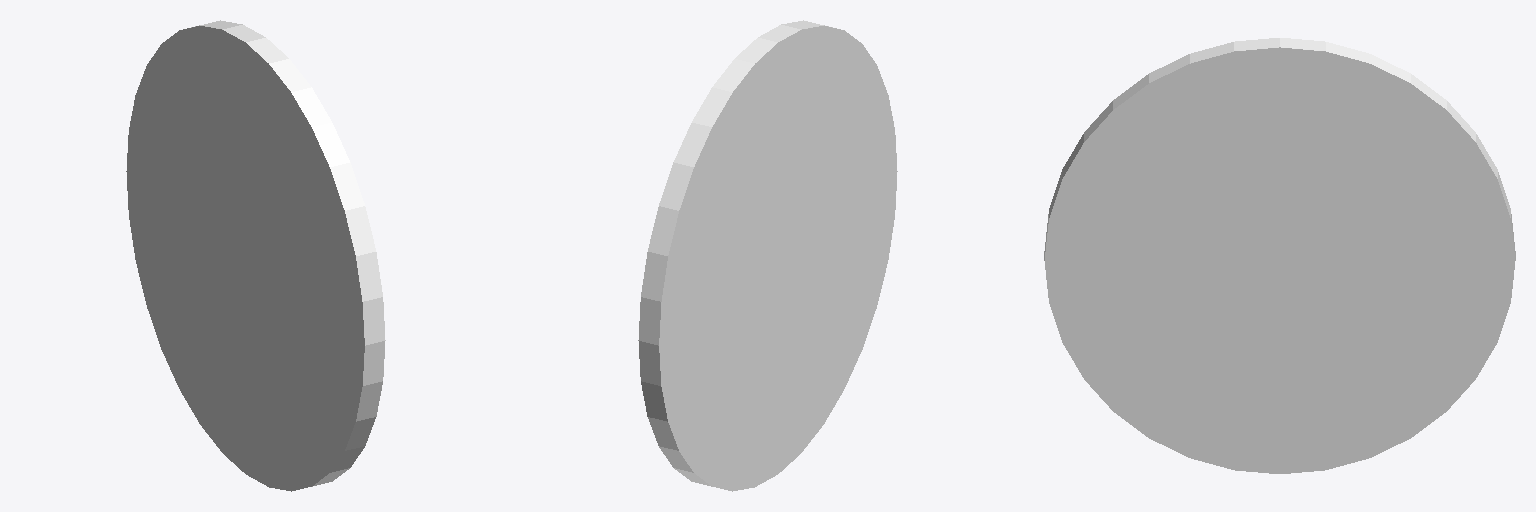
robot.urdf — g1_plate_scene:
<?xml version="1.0"?>
<robot name="g1_plate_scene">
  <link name="_virtual_bell_root_link"/>

  <joint name="_virtual_bell_x" type="prismatic">
    <origin xyz="0 0 0" rpy="0 0 0"/>
    <parent link="_virtual_bell_root_link"/>
    <child link="_virtual_bell_x_link"/>
    <axis xyz="1 0 0"/>
    <limit lower="-3" upper="3" effort="100" velocity="1"/>
  </joint>
  <link name="_virtual_bell_x_link">
    <inertial>
      <origin xyz="0 0 0" rpy="0 0 0"/>
      <mass value="0.001"/>
      <inertia ixx="1e-7" ixy="0" ixz="0" iyy="1e-7" iyz="0" izz="1e-7"/>
    </inertial>
  </link>

  <joint name="_virtual_bell_y" type="prismatic">
    <origin xyz="0 0 0" rpy="0 0 0"/>
    <parent link="_virtual_bell_x_link"/>
    <child link="_virtual_bell_y_link"/>
    <axis xyz="0 1 0"/>
    <limit lower="-3" upper="3" effort="100" velocity="1"/>
  </joint>
  <link name="_virtual_bell_y_link">
    <inertial>
      <origin xyz="0 0 0" rpy="0 0 0"/>
      <mass value="0.001"/>
      <inertia ixx="1e-7" ixy="0" ixz="0" iyy="1e-7" iyz="0" izz="1e-7"/>
    </inertial>
  </link>

  <joint name="_virtual_bell_z" type="prismatic">
    <origin xyz="0 0 0" rpy="0 0 0"/>
    <parent link="_virtual_bell_y_link"/>
    <child link="_virtual_bell_z_link"/>
    <axis xyz="0 0 1"/>
    <limit lower="-3" upper="3" effort="100" velocity="1"/>
  </joint>
  <link name="_virtual_bell_z_link">
    <inertial>
      <origin xyz="0 0 0" rpy="0 0 0"/>
      <mass value="0.001"/>
      <inertia ixx="1e-7" ixy="0" ixz="0" iyy="1e-7" iyz="0" izz="1e-7"/>
    </inertial>
    <visual>
      <origin xyz="0 0 0" rpy="0 1.57 0"/>
      <geometry>
        <cylinder radius="0.4" length="0.04"/>
      </geometry>
      <material name="white">
        <color rgba="1 1 1 1"/>
      </material>
    </visual>
  </link>
</robot>

--- Facts derived from the render (not from the file) ---
3 views of the same robot in one strip: view 1: azimuth 30°, elevation 25°; view 2: azimuth 150°, elevation 25°; view 3: azimuth 270°, elevation 25° (orthographic).
Robot: g1_plate_scene — 4 links, 3 joints (3 prismatic); root link _virtual_bell_root_link; default pose: every joint at zero.
Links seen in each view (by area): view 1: _virtual_bell_z_link; view 2: _virtual_bell_z_link; view 3: _virtual_bell_z_link.
Link boxes in pixels (x1,y1,x2,y2): _virtual_bell_z_link: [126, 20, 385, 491]; _virtual_bell_z_link: [638, 20, 897, 491]; _virtual_bell_z_link: [1044, 38, 1515, 473].
Bounding box of the posed robot: 0.0406 × 0.8 × 0.8 m (x, y, z).
Geometry: primitives only (box / cylinder / sphere), no mesh files.
